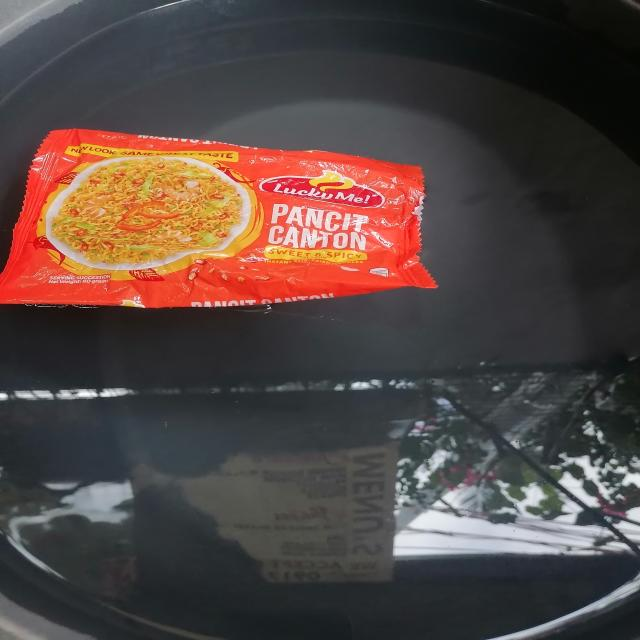Plastic Wrapper: (0, 129, 437, 308)
